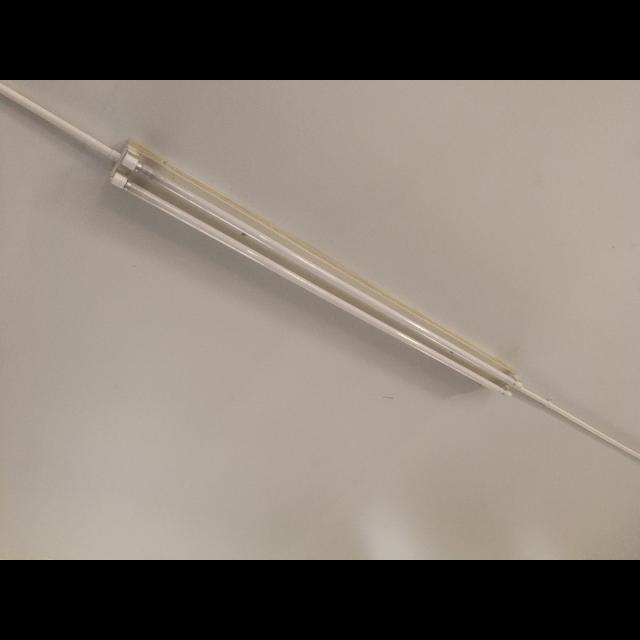Straight-Tube-Fluorescent-Lamp: (94, 128, 530, 420)
